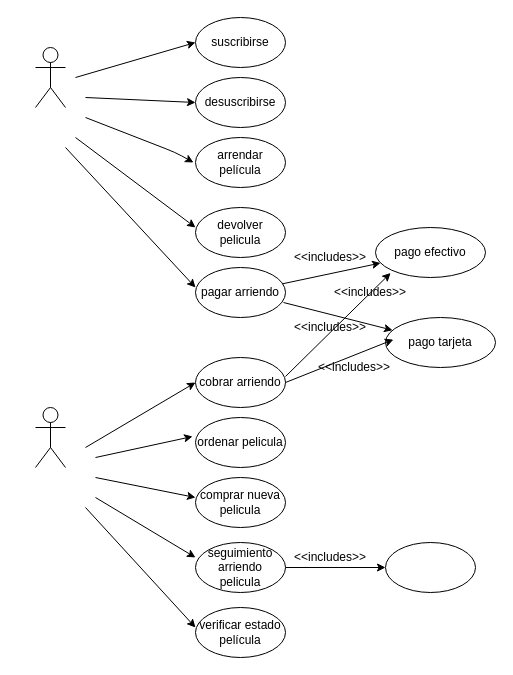
The diagram is 513 pixels wide and 675 high, and some of its shapes have lost their labels. Each missing label, with the box of its shape:
Colaborador: (34, 406, 66, 468)
multar atraso: (384, 542, 476, 592)
Socio: (34, 46, 66, 108)
